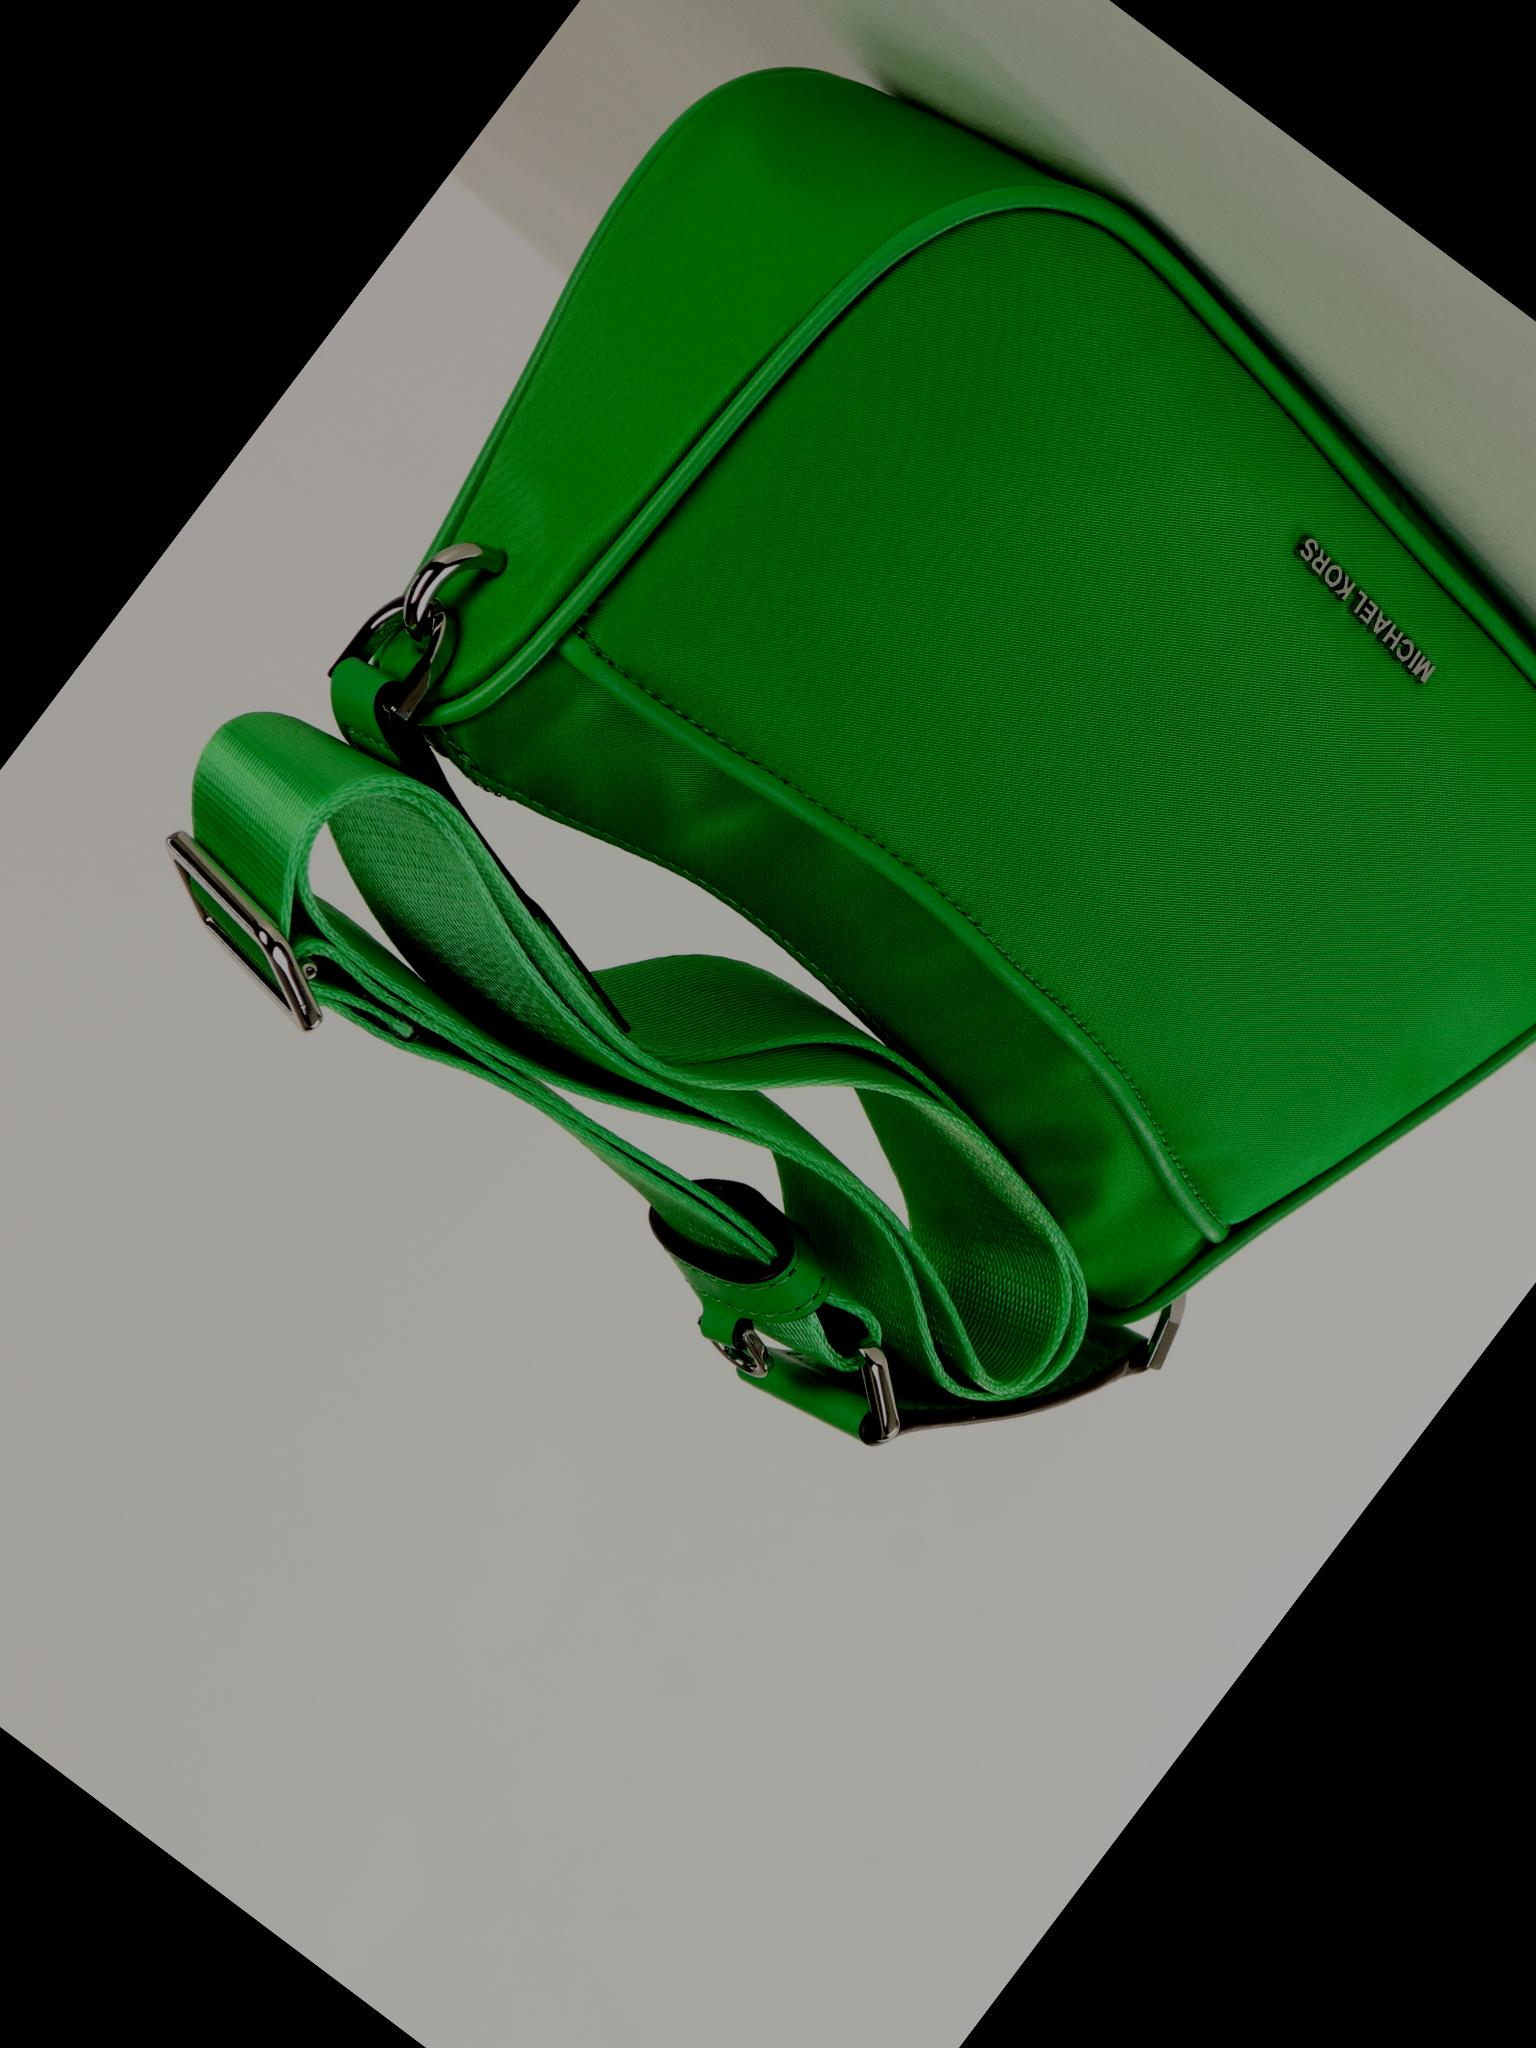MICHAEL-KORS: (1276, 534, 1455, 685)
